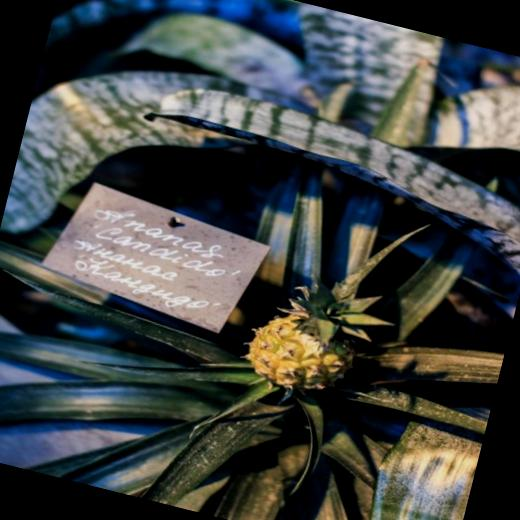Mango: (232, 261, 406, 417)
